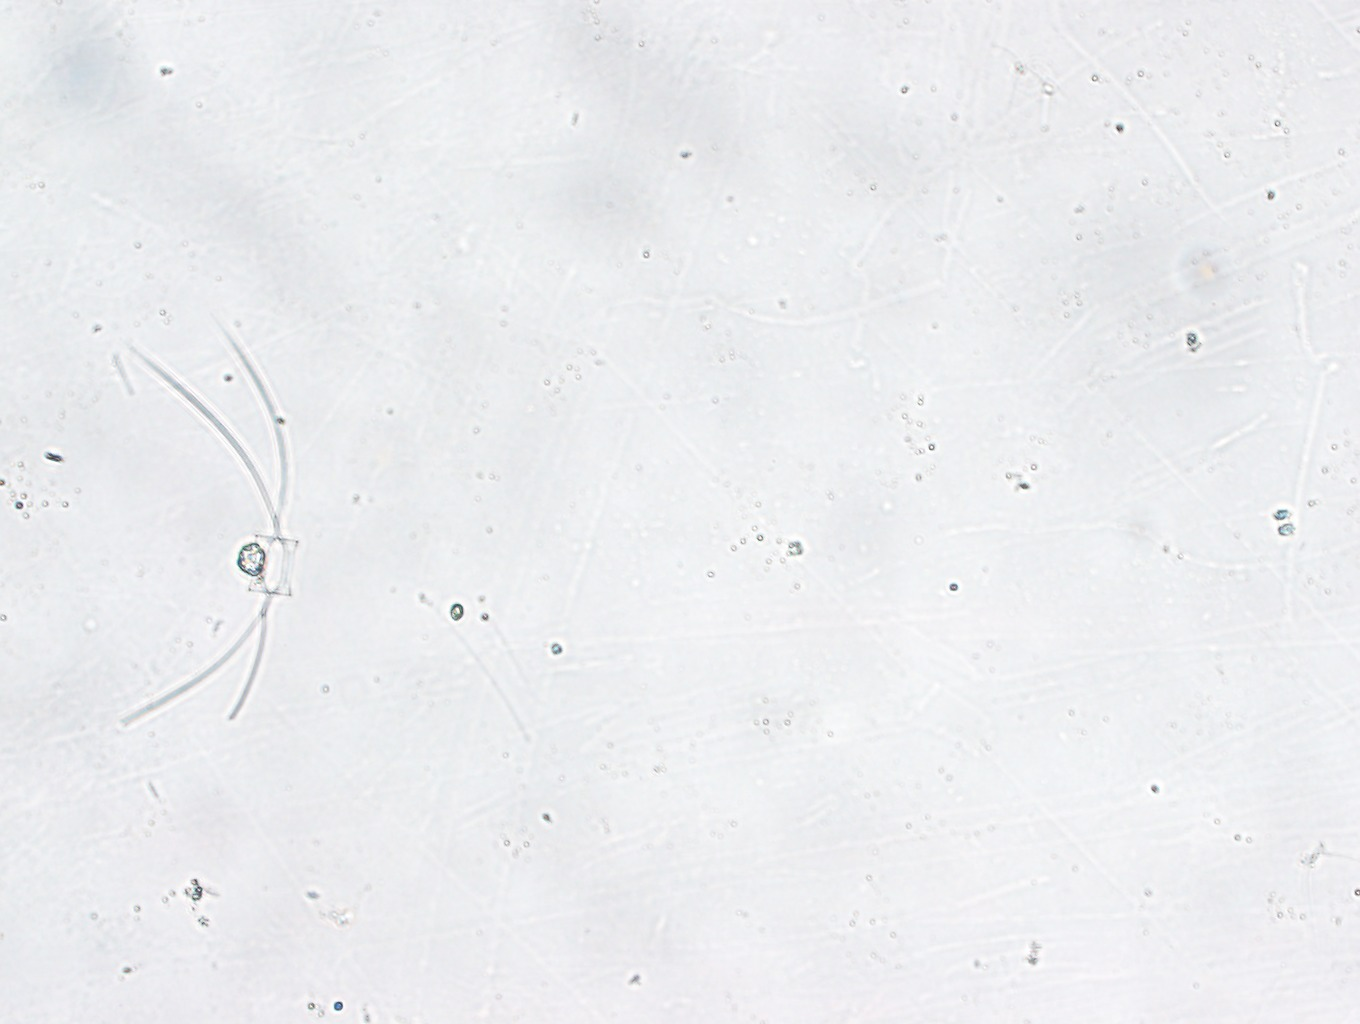chaetoceros: (116, 315, 297, 733)
